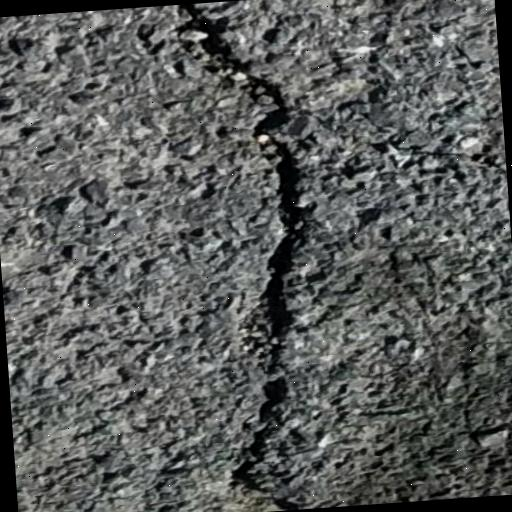spalling: (167, 5, 313, 507)
